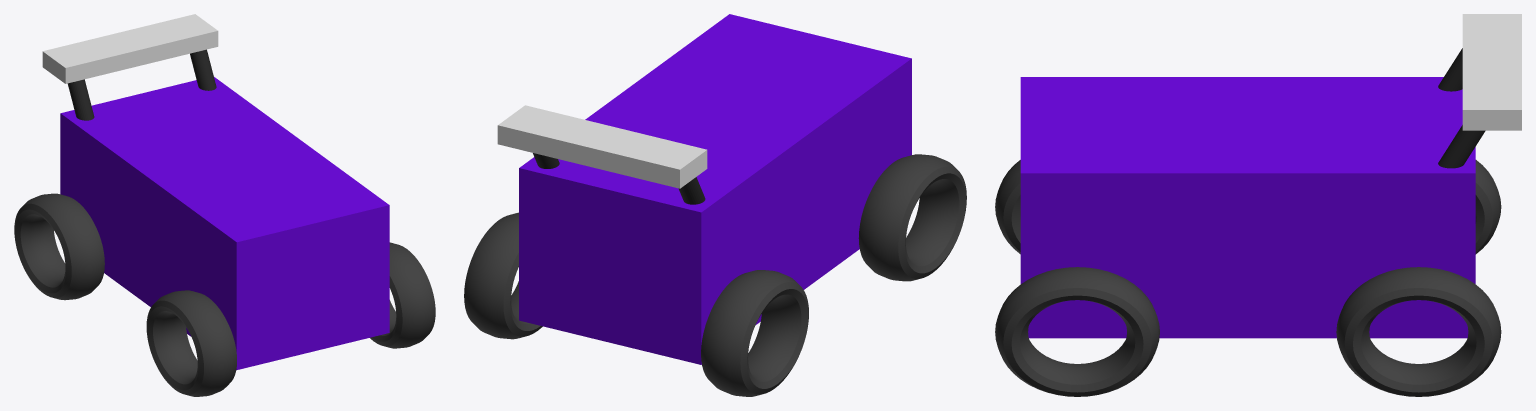
File: vroom.fbx
The picture shows the model from 3 angles, left to right: view 1: azimuth 30°, elevation 25°; view 2: azimuth 150°, elevation 25°; view 3: azimuth 270°, elevation 25°; orthographic projection. The views are drawn at different scales.
Parts seen in each view (by area): view 1: Cube, Torus.002, Torus, Cube.001, Torus.001, Cylinder.001, Cylinder; view 2: Cube, Torus, Torus.002, Cube.001, Torus.003, Cylinder.001; view 3: Cube, Torus.001, Torus.003, Cube.001, Torus.002, Torus, Cylinder, Cylinder.001.
Part boxes in pixels (x1,y1,x2,y2): Cube: [60, 77, 389, 369]; Torus.002: [14, 193, 104, 300]; Torus: [146, 290, 236, 396]; Cube.001: [42, 14, 218, 83]; Torus.001: [370, 242, 435, 348]; Cylinder.001: [67, 79, 94, 120]; Cylinder: [190, 49, 216, 90]; Cube: [519, 14, 911, 364]; Torus: [858, 154, 966, 281]; Torus.002: [701, 270, 808, 396]; Cube.001: [497, 105, 707, 188]; Torus.003: [464, 212, 542, 339]; Cylinder.001: [678, 177, 705, 204]; Cube: [1020, 77, 1475, 338]; Torus.001: [995, 267, 1159, 396]; Torus.003: [1336, 267, 1501, 396]; Cube.001: [1462, 14, 1521, 130]; Torus.002: [1475, 160, 1501, 254]; Torus: [995, 160, 1020, 254]; Cylinder: [1438, 125, 1485, 168]; Cylinder.001: [1438, 48, 1462, 91].
Size of the model in its own units: 310 by 260 by 463.
